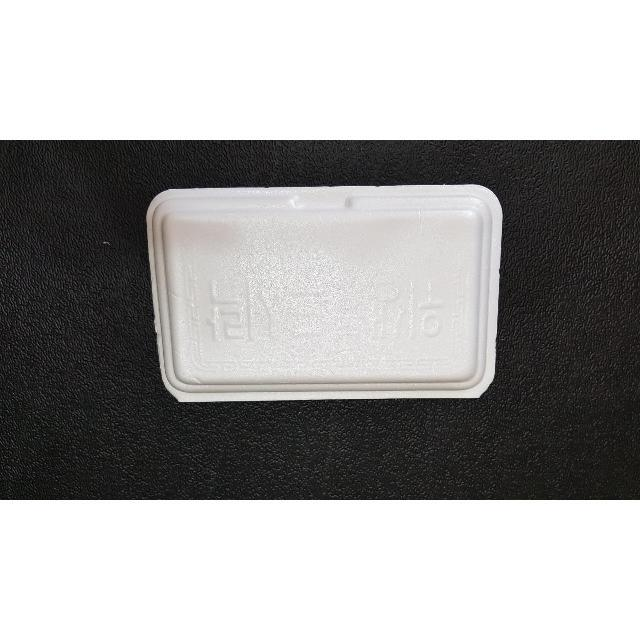Plastico descartable: (144, 185, 502, 407)
